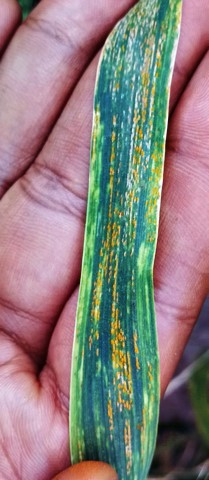Leaf Rust: (72, 92, 170, 426)
